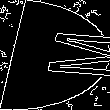M_W: (5, 28, 105, 82)
